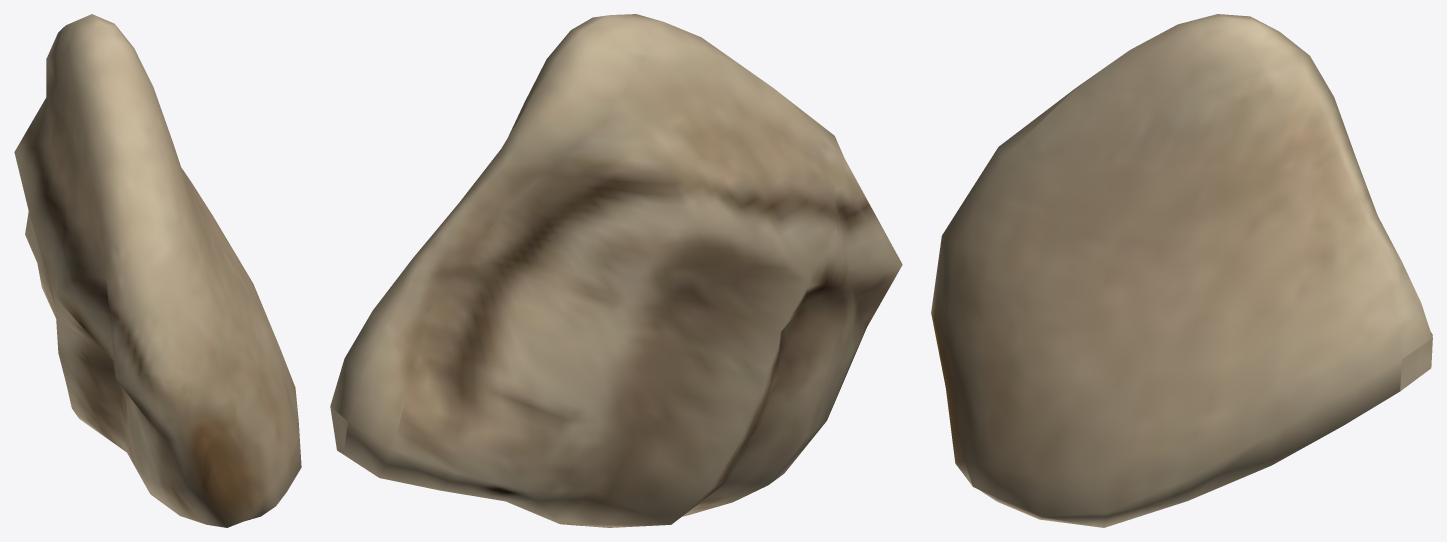
The model's file is Maxilary_Molar2.glb.
3 views of the same model, side by side, from view 1: azimuth 30°, elevation 25°; view 2: azimuth 150°, elevation 25°; view 3: azimuth 270°, elevation 25° (orthographic). The views are drawn at different scales.
Parts seen in each view (by area): view 1: Molar6; view 2: Molar6; view 3: Molar6.
Part boxes in pixels (<box>): Molar6: <box>14,14,301,527</box>; Molar6: <box>330,14,902,527</box>; Molar6: <box>931,14,1432,527</box>.
Bounding box in the file's own units: 0.0191 × 0.031 × 0.0305.
1 material, 1 textured.
